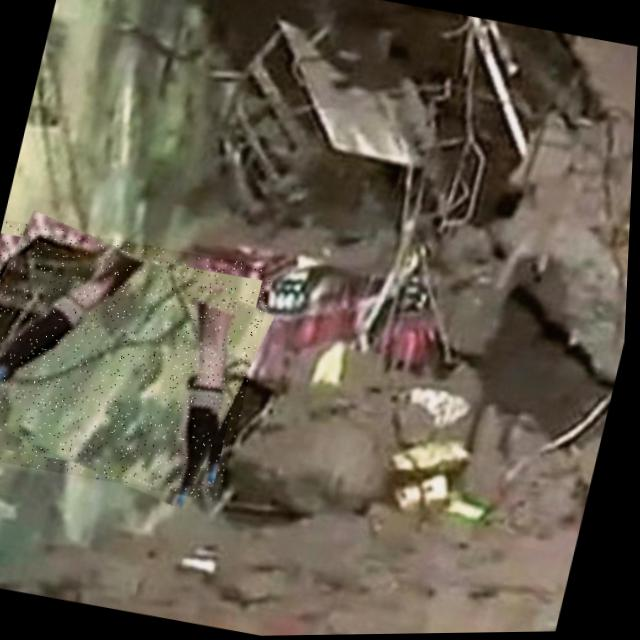Person in Rubble: (0, 216, 279, 505)
